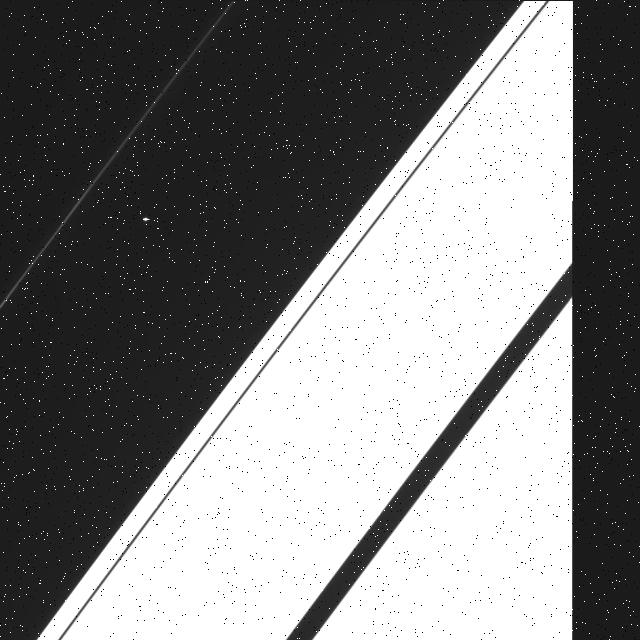Saturn: (33, 0, 571, 640)
